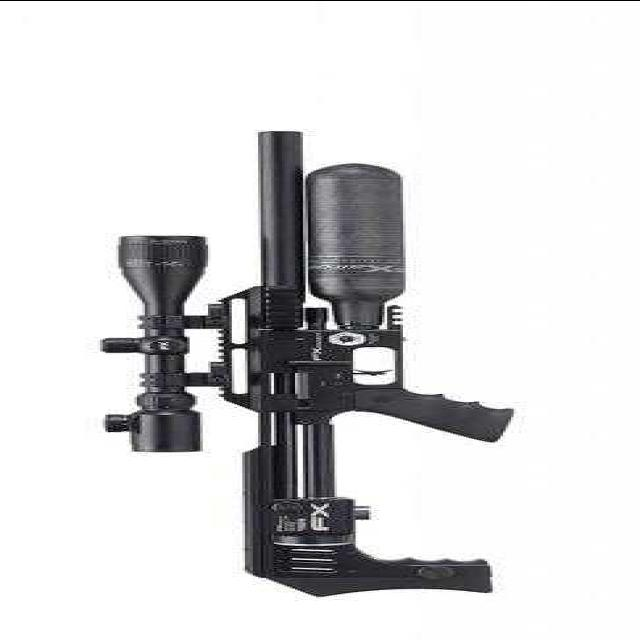heavyweapon: (48, 74, 570, 612)
